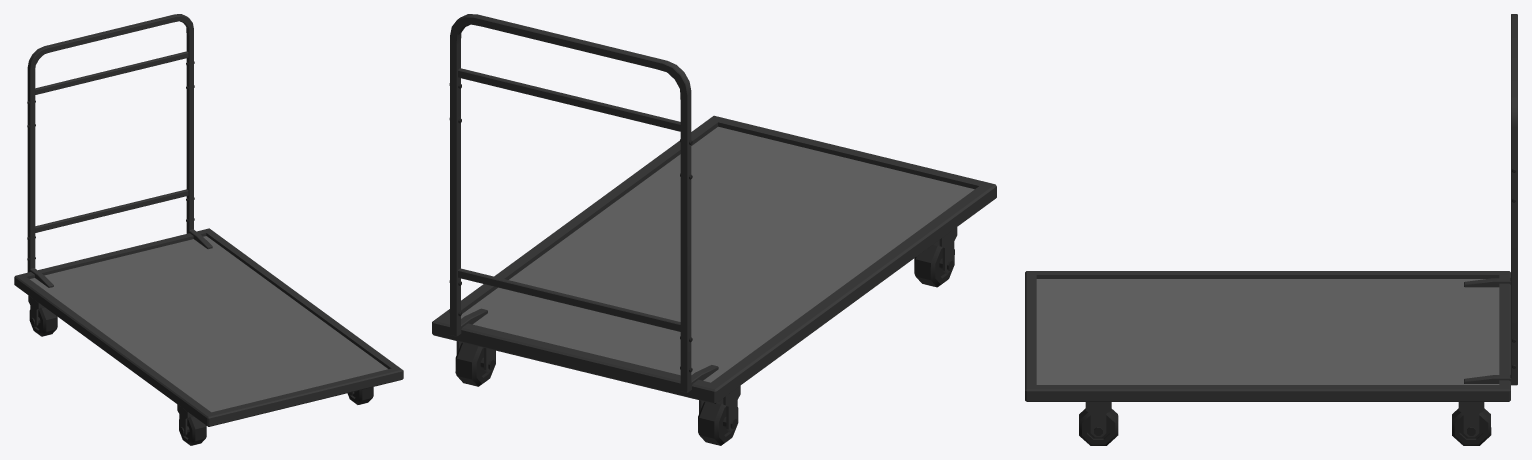
The model's file is car_12.glb.
3 renders of one model, left to right at view 1: azimuth 30°, elevation 25°; view 2: azimuth 150°, elevation 25°; view 3: azimuth 270°, elevation 25°, orthographic. The views are drawn at different scales.
Parts seen in each view (by area): view 1: car_12; view 2: car_12; view 3: car_12.
Part boxes in pixels (x1=…): car_12: x1=14, y1=14, x2=403, y2=445; car_12: x1=432, y1=14, x2=996, y2=445; car_12: x1=1025, y1=14, x2=1517, y2=445.
Bounding box in the file's own units: 1.26 × 1.65 × 2.19.
1 material, 1 textured.
